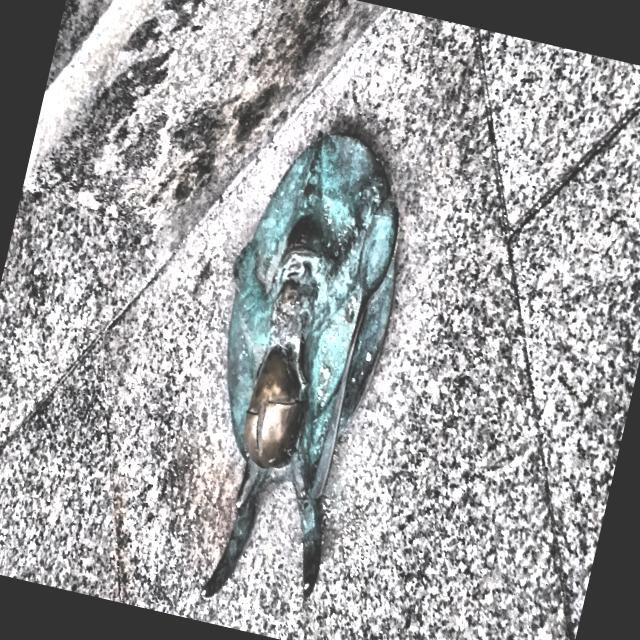Obiezysmak: (200, 134, 398, 600)
